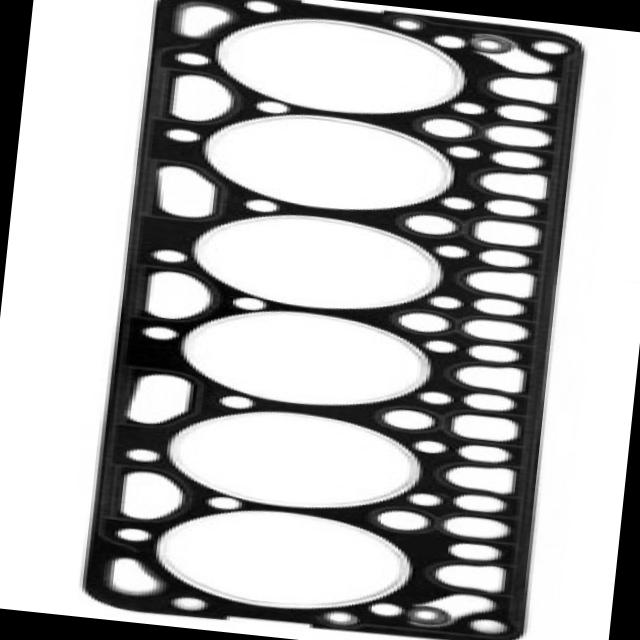missing hole: (378, 534, 447, 556)
